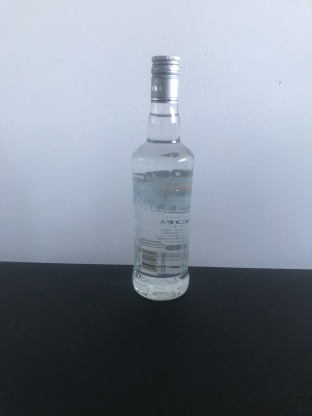nakretka: (149, 53, 181, 104)
